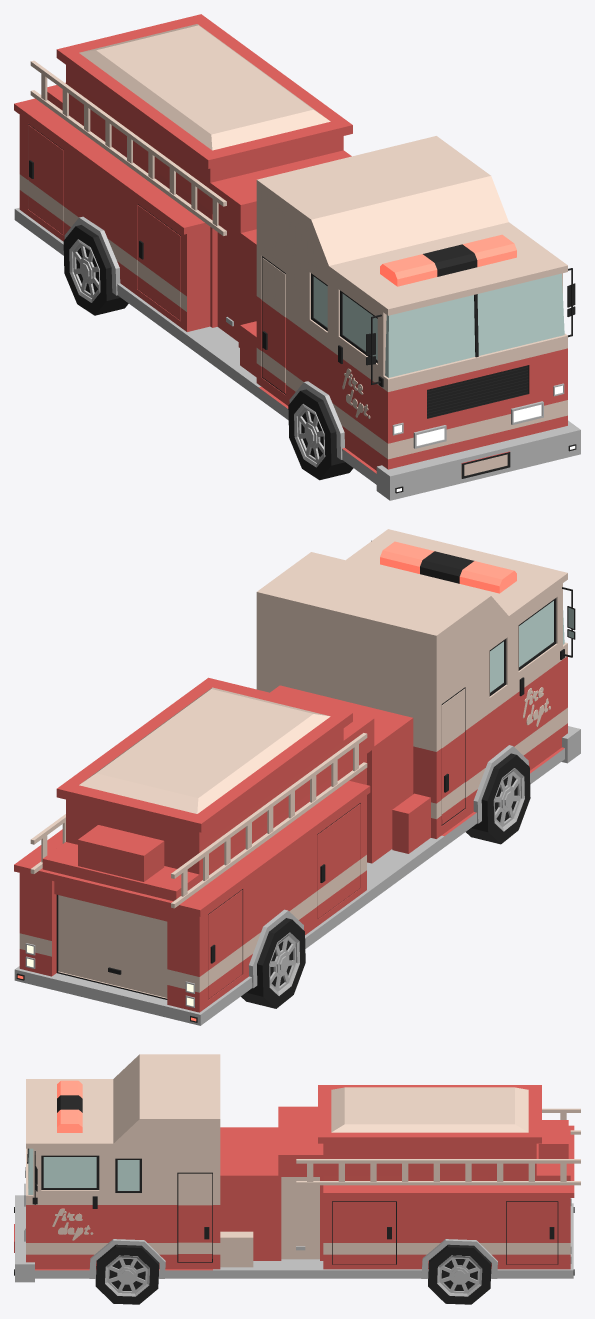
File: FireTruck_1.fbx
3 views of the same model, one above another, from view 1: azimuth 30°, elevation 25°; view 2: azimuth 150°, elevation 25°; view 3: azimuth 270°, elevation 25° (orthographic). The views are drawn at different scales.
Parts seen in each view (by area): view 1: fire_truck; view 2: fire_truck; view 3: fire_truck.
Part boxes in pixels (x1,y1,x2,y2): fire_truck: (14, 14, 580, 500); fire_truck: (14, 529, 580, 1025); fire_truck: (14, 1054, 580, 1304).
Size of the model in its own units: 235 by 265 by 749.
